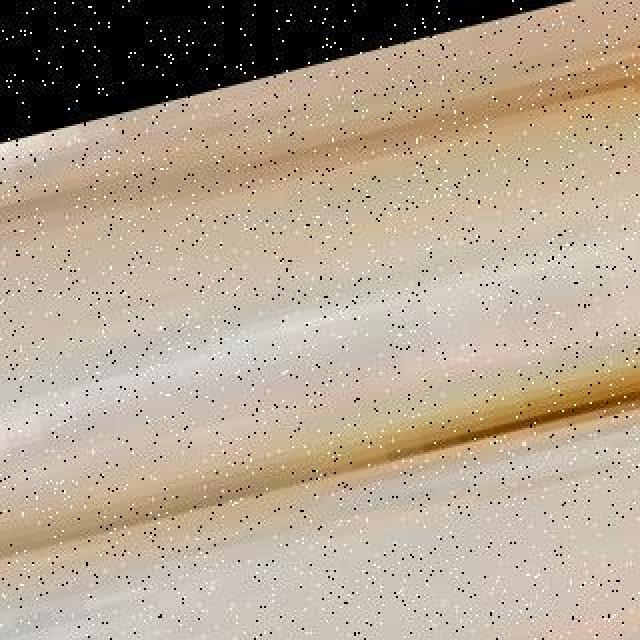spacing: (372, 576, 640, 640)
